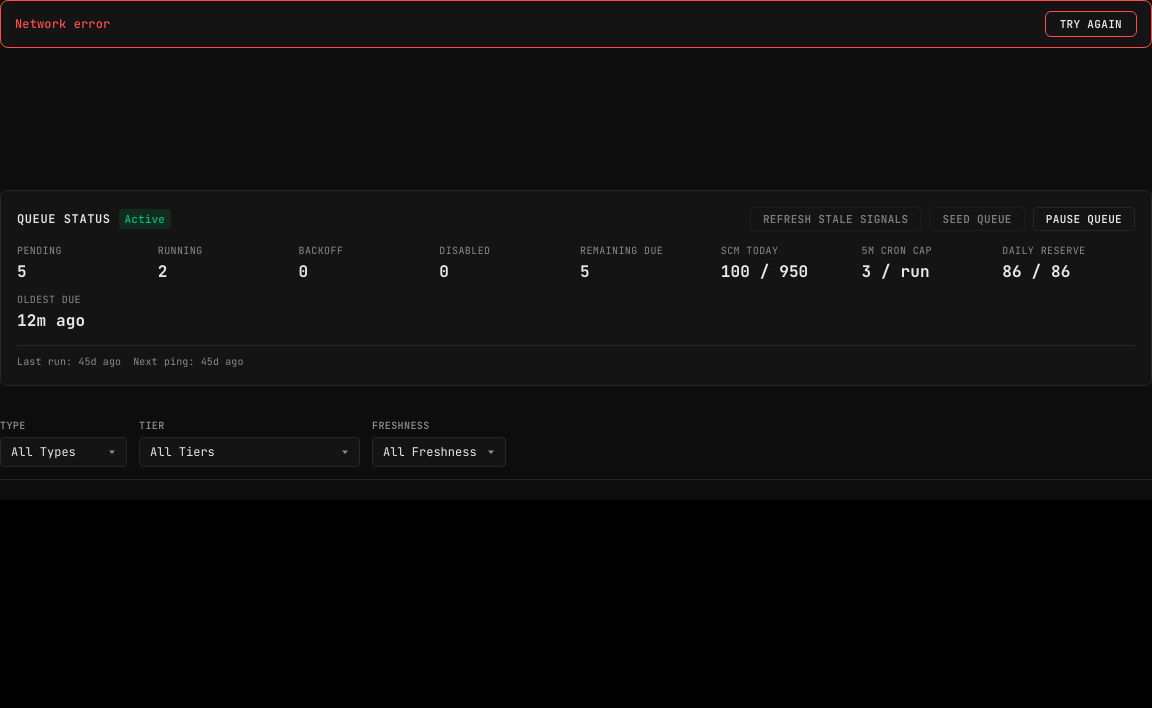
Scenario: IntelligenceDashboard › retries fetch when retry button is clicked
The image size is (1152, 708).
expect the element with test id "error-banner" is shown: met, box [0,0,1151,48]
Click the button "Try again" at (1091, 24), box [1045,11,1137,37]
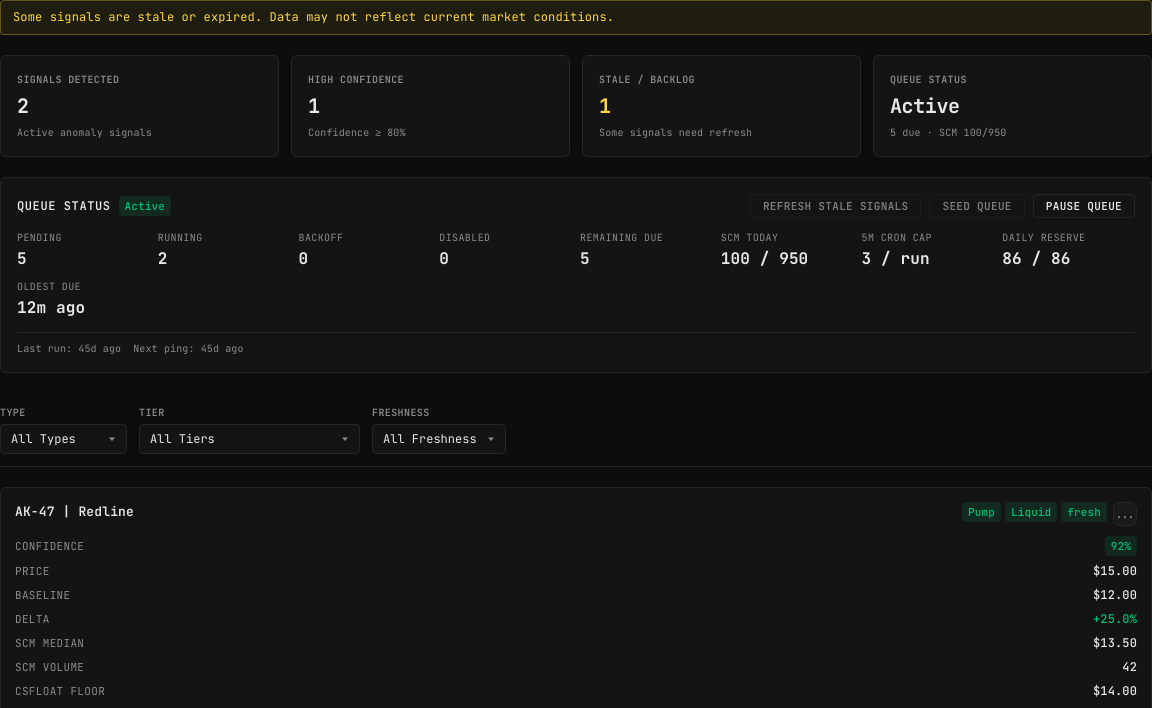
expect the text "AK-47 | Redline" is shown: met, box [15,502,134,521]
